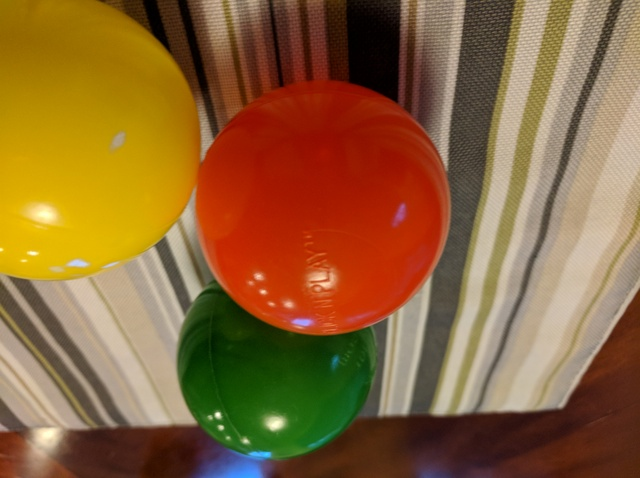ball: (1, 1, 203, 280)
